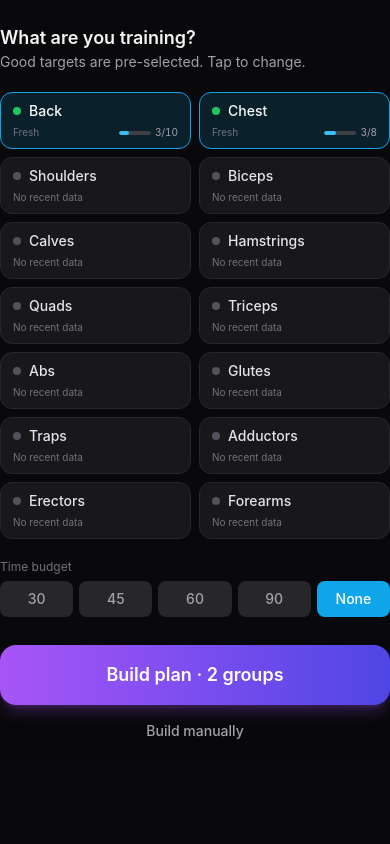
Test: WorkoutSetupFlow — AI review › a user edit hides a shown review (stale)
This screenshot has width=390, height=844.
Click the button with test id "setup-build-plan" at (195, 675), box [0,645,389,705]
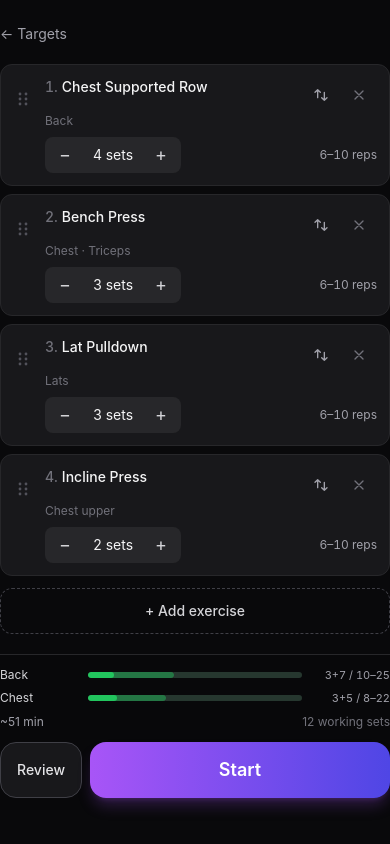
Click the button with test id "setup-review" at (41, 770), box [0,742,82,798]
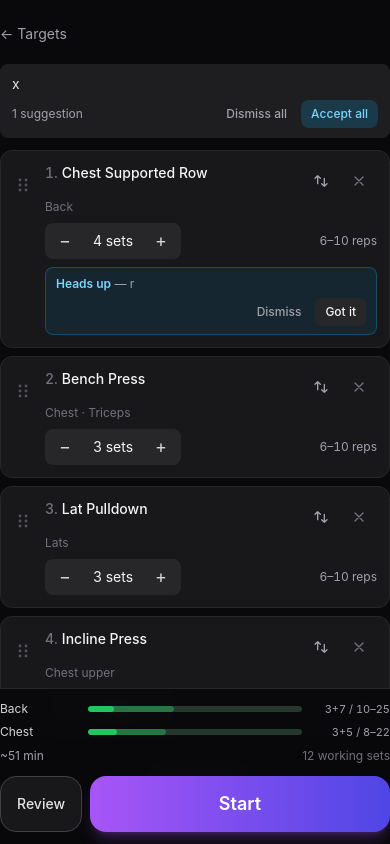
Check: the element with test id "setup-review-banner" is shown, box [0,64,389,138]
Click the button "+" below "Chest Supported Row" at (161, 241), box [141,223,181,259]
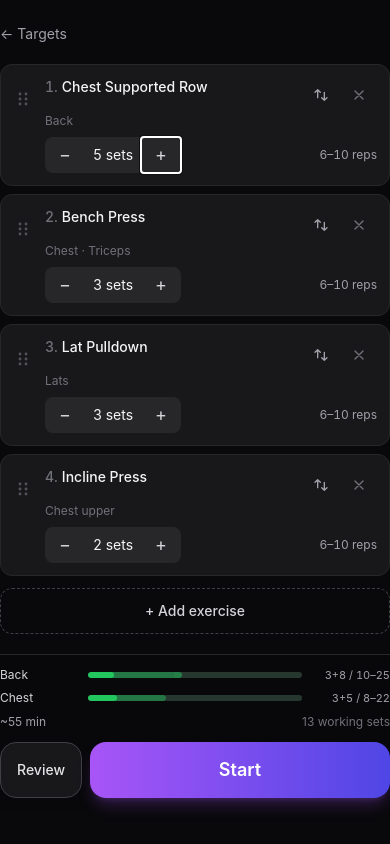
Check: the element with test id "setup-review-banner" is gone
